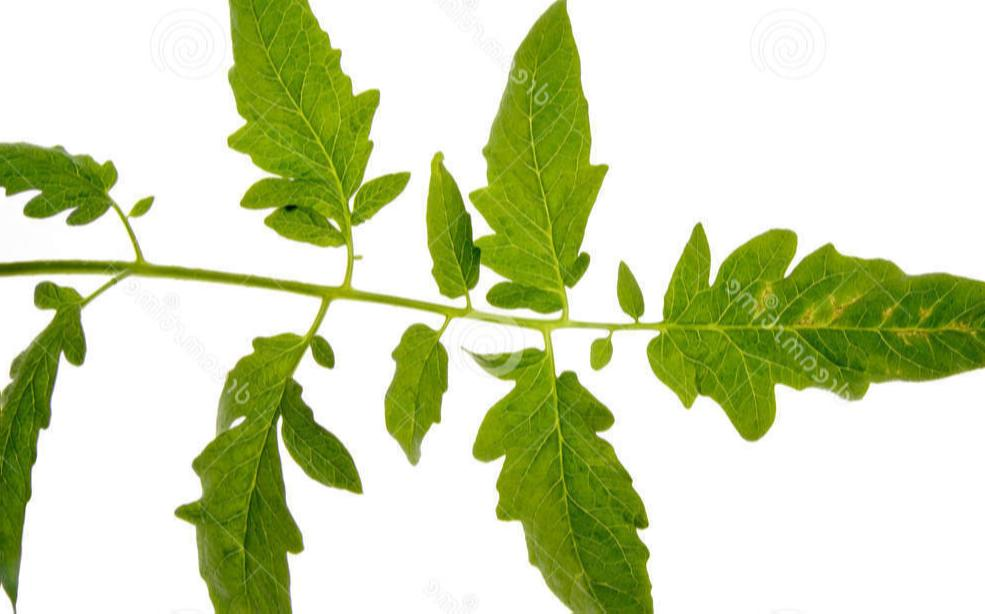Tomato leaf: (640, 203, 985, 483), (441, 324, 698, 614), (163, 307, 371, 614), (202, 0, 429, 273), (454, 0, 605, 335)
